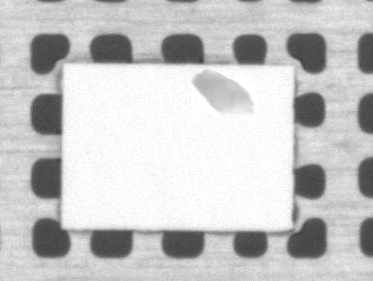DIE_INK: (194, 68, 258, 116)
